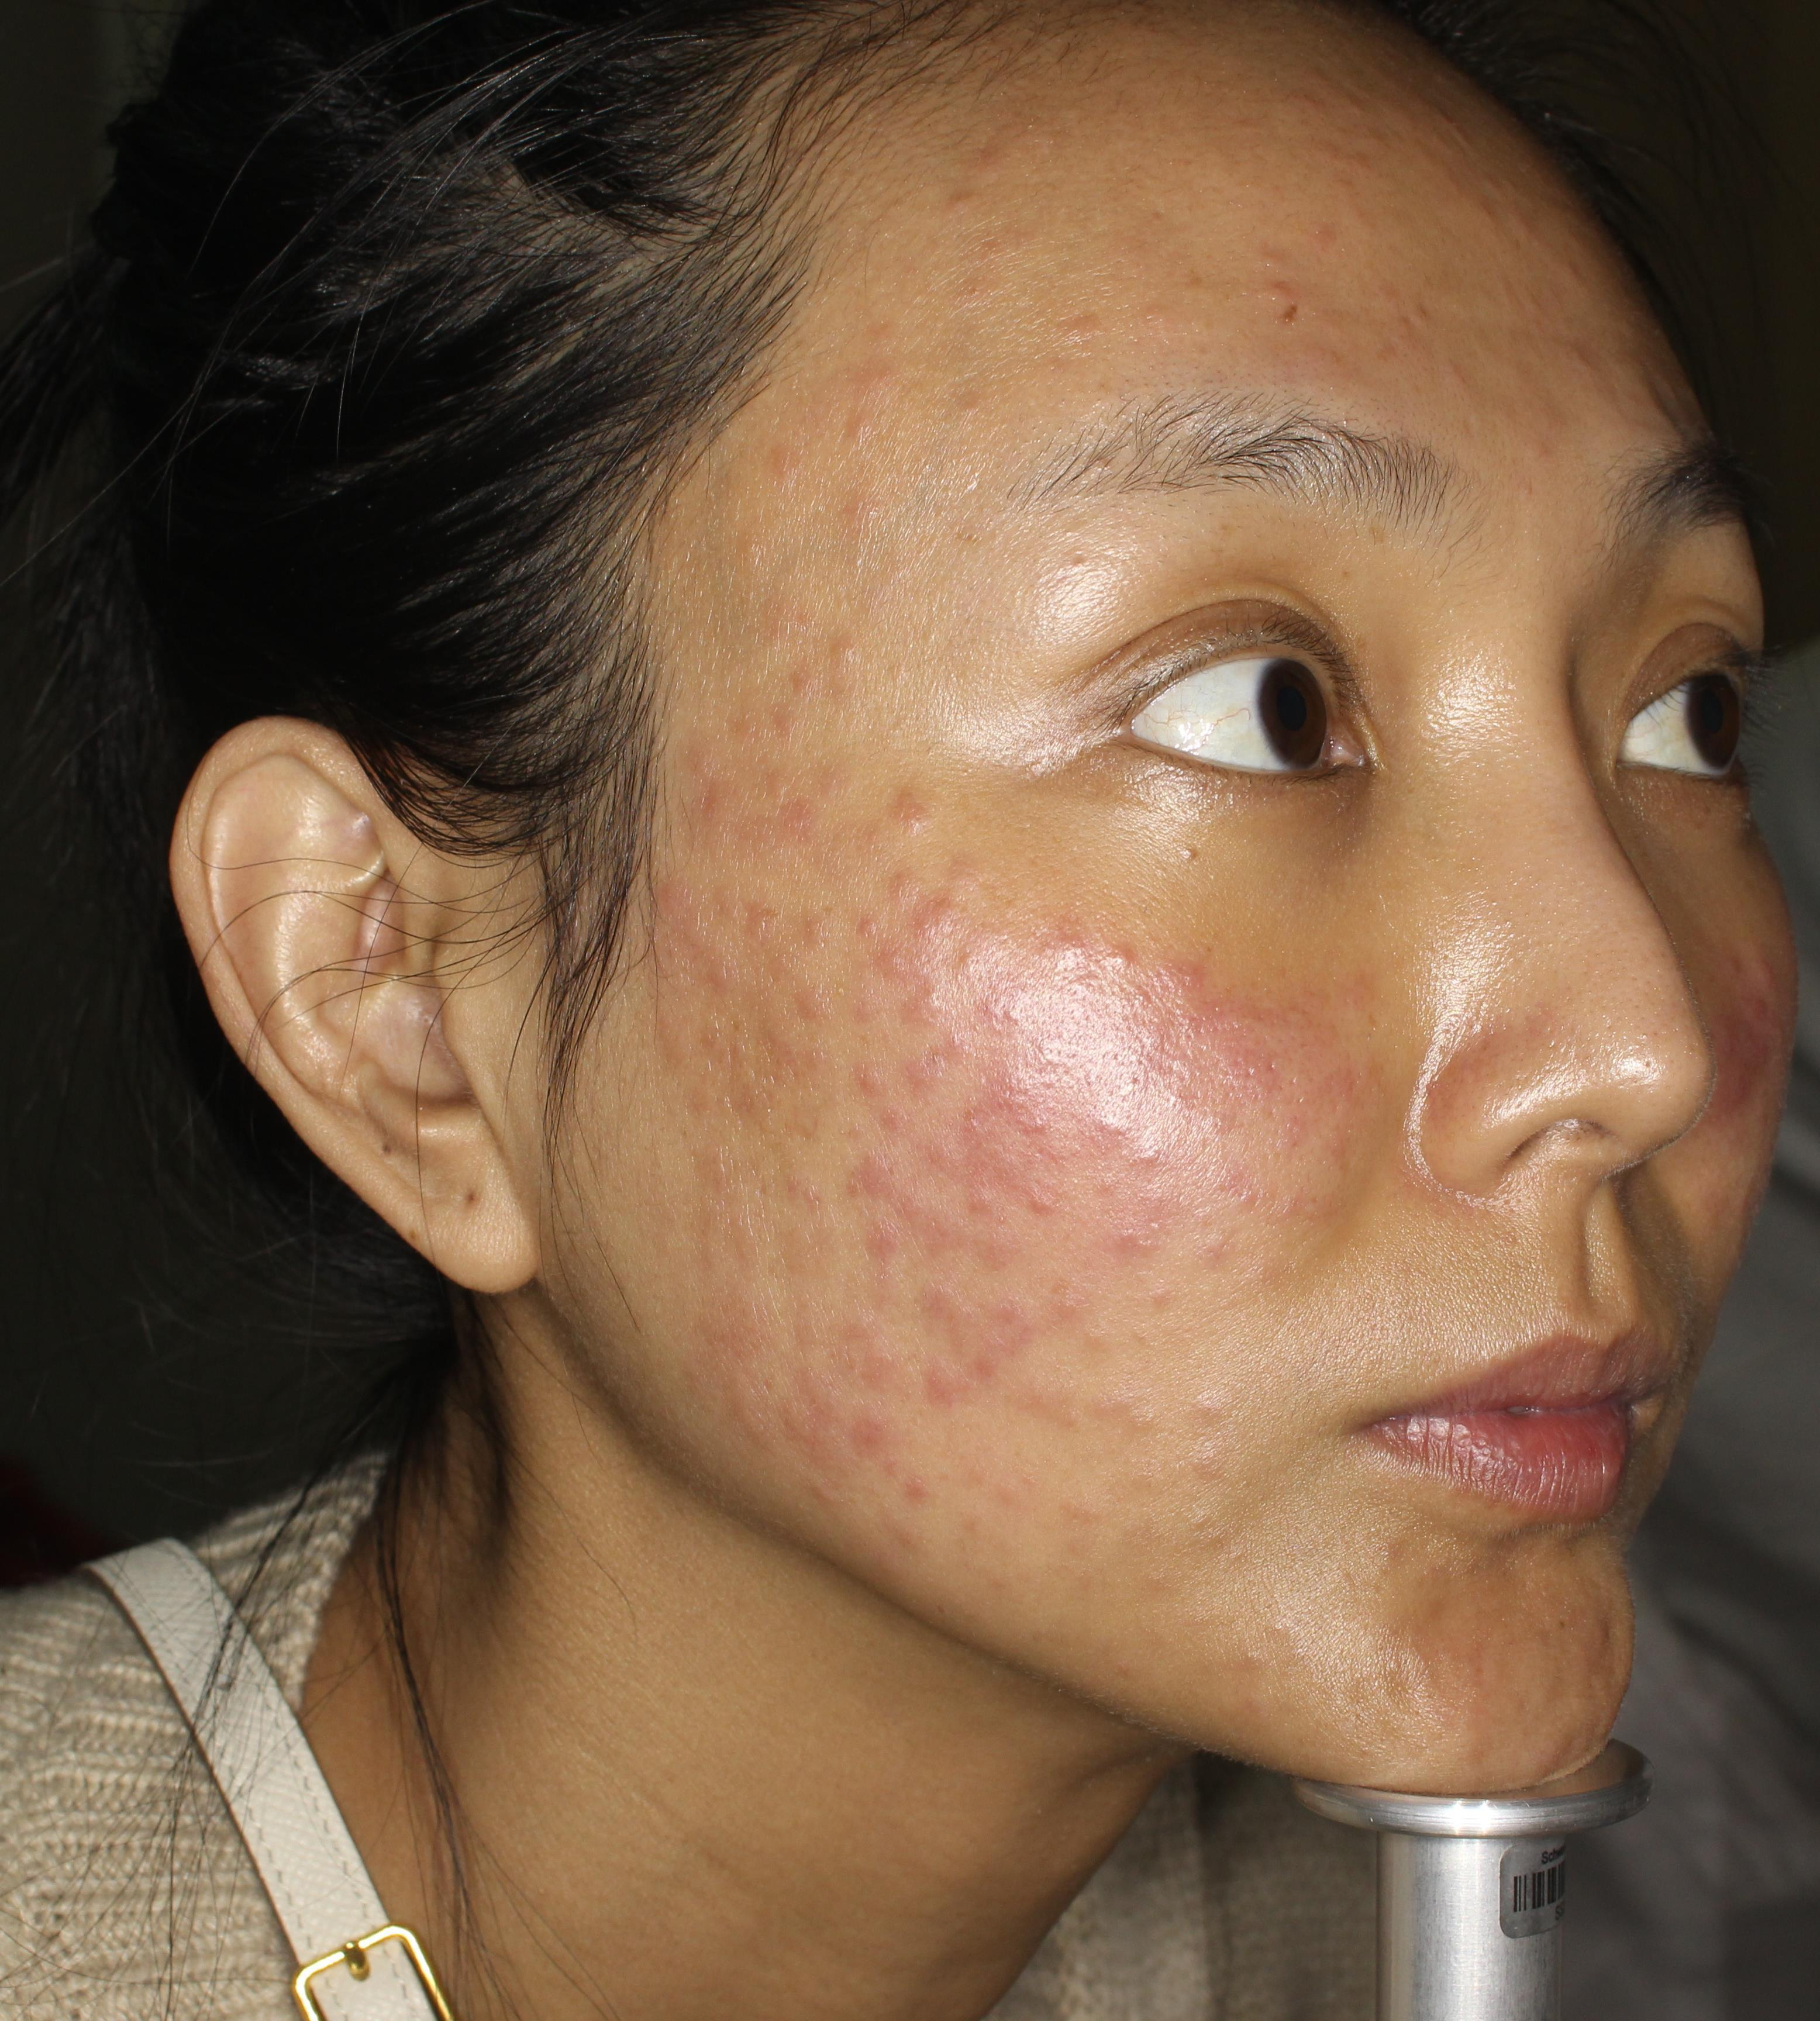fore: (799, 356, 892, 483), (1161, 931, 1247, 1064), (754, 644, 852, 760), (1068, 1173, 1170, 1266), (964, 1133, 1054, 1236), (1256, 255, 1337, 365), (731, 778, 820, 873), (857, 948, 933, 1046), (1015, 1359, 1098, 1449), (857, 1150, 942, 1236), (834, 1046, 921, 1127), (791, 1375, 852, 1482), (840, 1387, 914, 1470), (1105, 1385, 1182, 1463), (875, 1508, 956, 1575), (646, 931, 722, 997), (903, 1041, 968, 1117), (1036, 911, 1100, 983), (1045, 1484, 1117, 1547), (1028, 1036, 1103, 1096), (1224, 1045, 1302, 1103), (894, 1456, 959, 1524), (1270, 1176, 1339, 1241), (789, 983, 863, 1043), (1214, 1164, 1279, 1231), (847, 1219, 912, 1285), (921, 895, 991, 957), (1056, 306, 1128, 365), (1177, 1222, 1249, 1282), (968, 1222, 1035, 1285), (820, 627, 882, 695), (922, 857, 993, 917), (857, 878, 929, 936), (1152, 1071, 1221, 1131), (956, 985, 1014, 1055), (719, 527, 789, 585), (785, 894, 847, 959), (827, 492, 894, 551), (901, 1347, 950, 1428), (1244, 1245, 1311, 1303), (1182, 1442, 1244, 1503), (961, 1075, 1031, 1127), (673, 760, 719, 841), (1177, 1375, 1239, 1435), (736, 913, 808, 962), (1135, 1271, 1196, 1327), (1263, 1104, 1319, 1166), (866, 783, 921, 846), (938, 1298, 996, 1356), (959, 1343, 1015, 1403), (750, 442, 812, 497), (1123, 1131, 1195, 1176), (1068, 1106, 1126, 1162), (935, 174, 991, 232), (852, 1345, 912, 1394), (970, 135, 1024, 188), (1038, 1280, 1094, 1331), (745, 976, 794, 1034), (1091, 931, 1149, 980), (820, 1317, 884, 1359), (683, 1006, 738, 1052), (661, 846, 690, 927), (1123, 1075, 1149, 1145)
